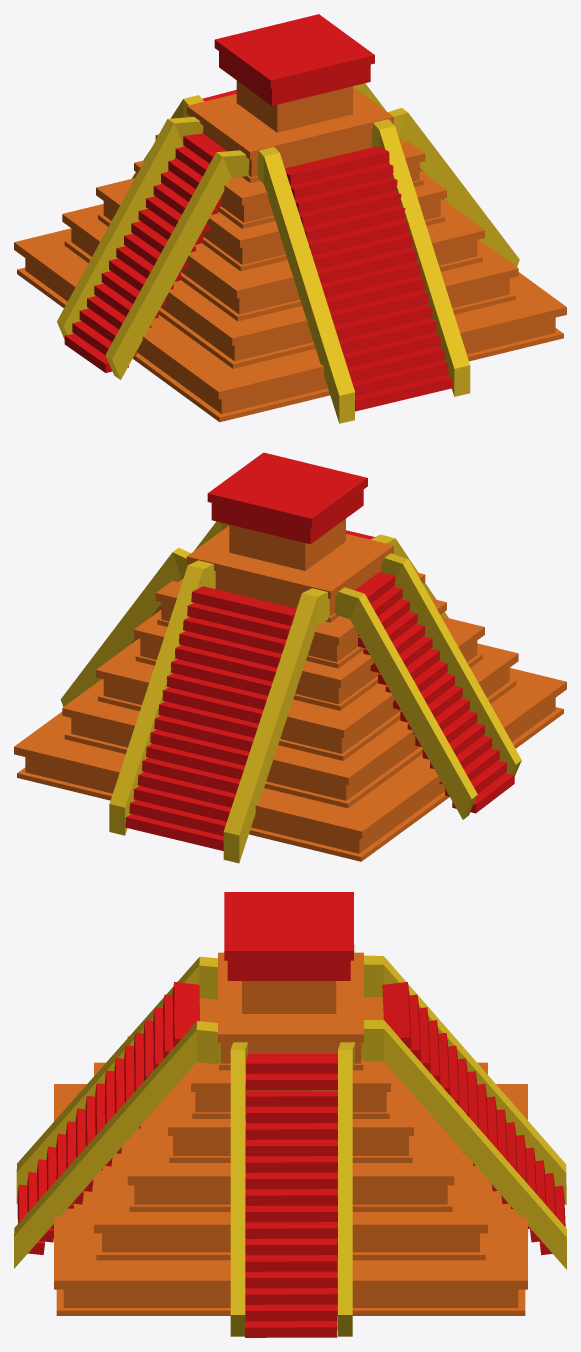
The model's file is TEMPLO_INCA_TOP10.fbx.
The picture shows the model from 3 angles, top to bottom: view 1: azimuth 30°, elevation 25°; view 2: azimuth 150°, elevation 25°; view 3: azimuth 270°, elevation 25°; orthographic projection. The views are drawn at different scales.
Parts seen in each view (by area): view 1: TorreInca; view 2: TorreInca; view 3: TorreInca.
Boxes of the visible parts, box(x1,y1,x2,y2) form: TorreInca: box(14, 14, 566, 423); TorreInca: box(14, 452, 566, 863); TorreInca: box(14, 892, 566, 1337).
Bounding box in the file's own units: 2529 × 1598 × 2536.
